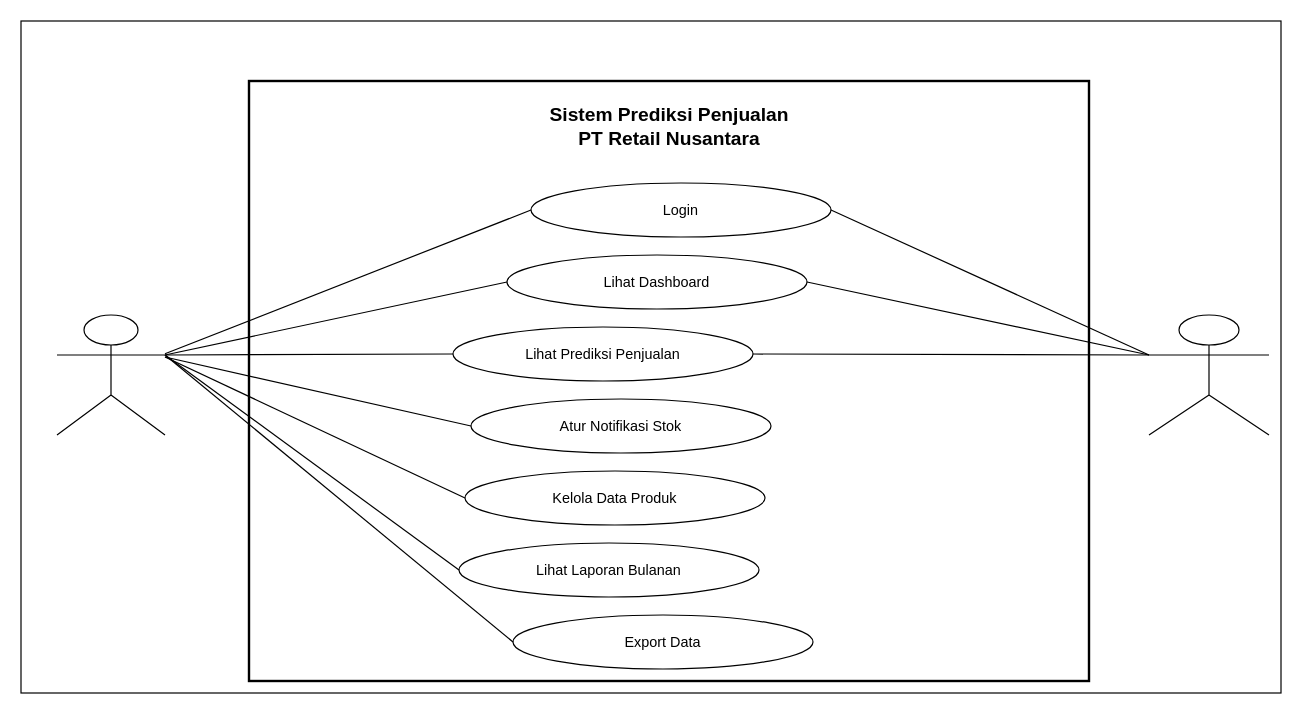
The diagram is 1302 pixels wide and 714 high, and some of its shapes have lost their labels. Each missing label, with the centre of its shape:
Direktur: pixel 110 374
Manajer Cabang: pixel 1208 374
